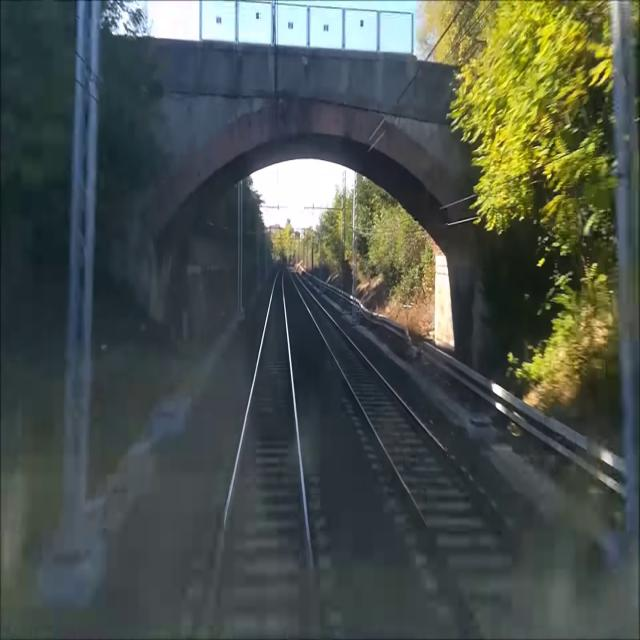rail-track: (290, 273, 580, 639), (204, 268, 317, 639)
